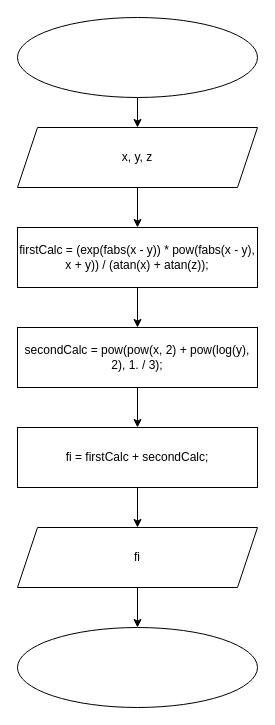
Image size: 275x725. Some labels were removed from this diagram. The shapes that lost their labels are listed below. From the top down, each one's centre as x and y in pixels, then its label:
point 137,57: Начало
point 137,667: Конец
